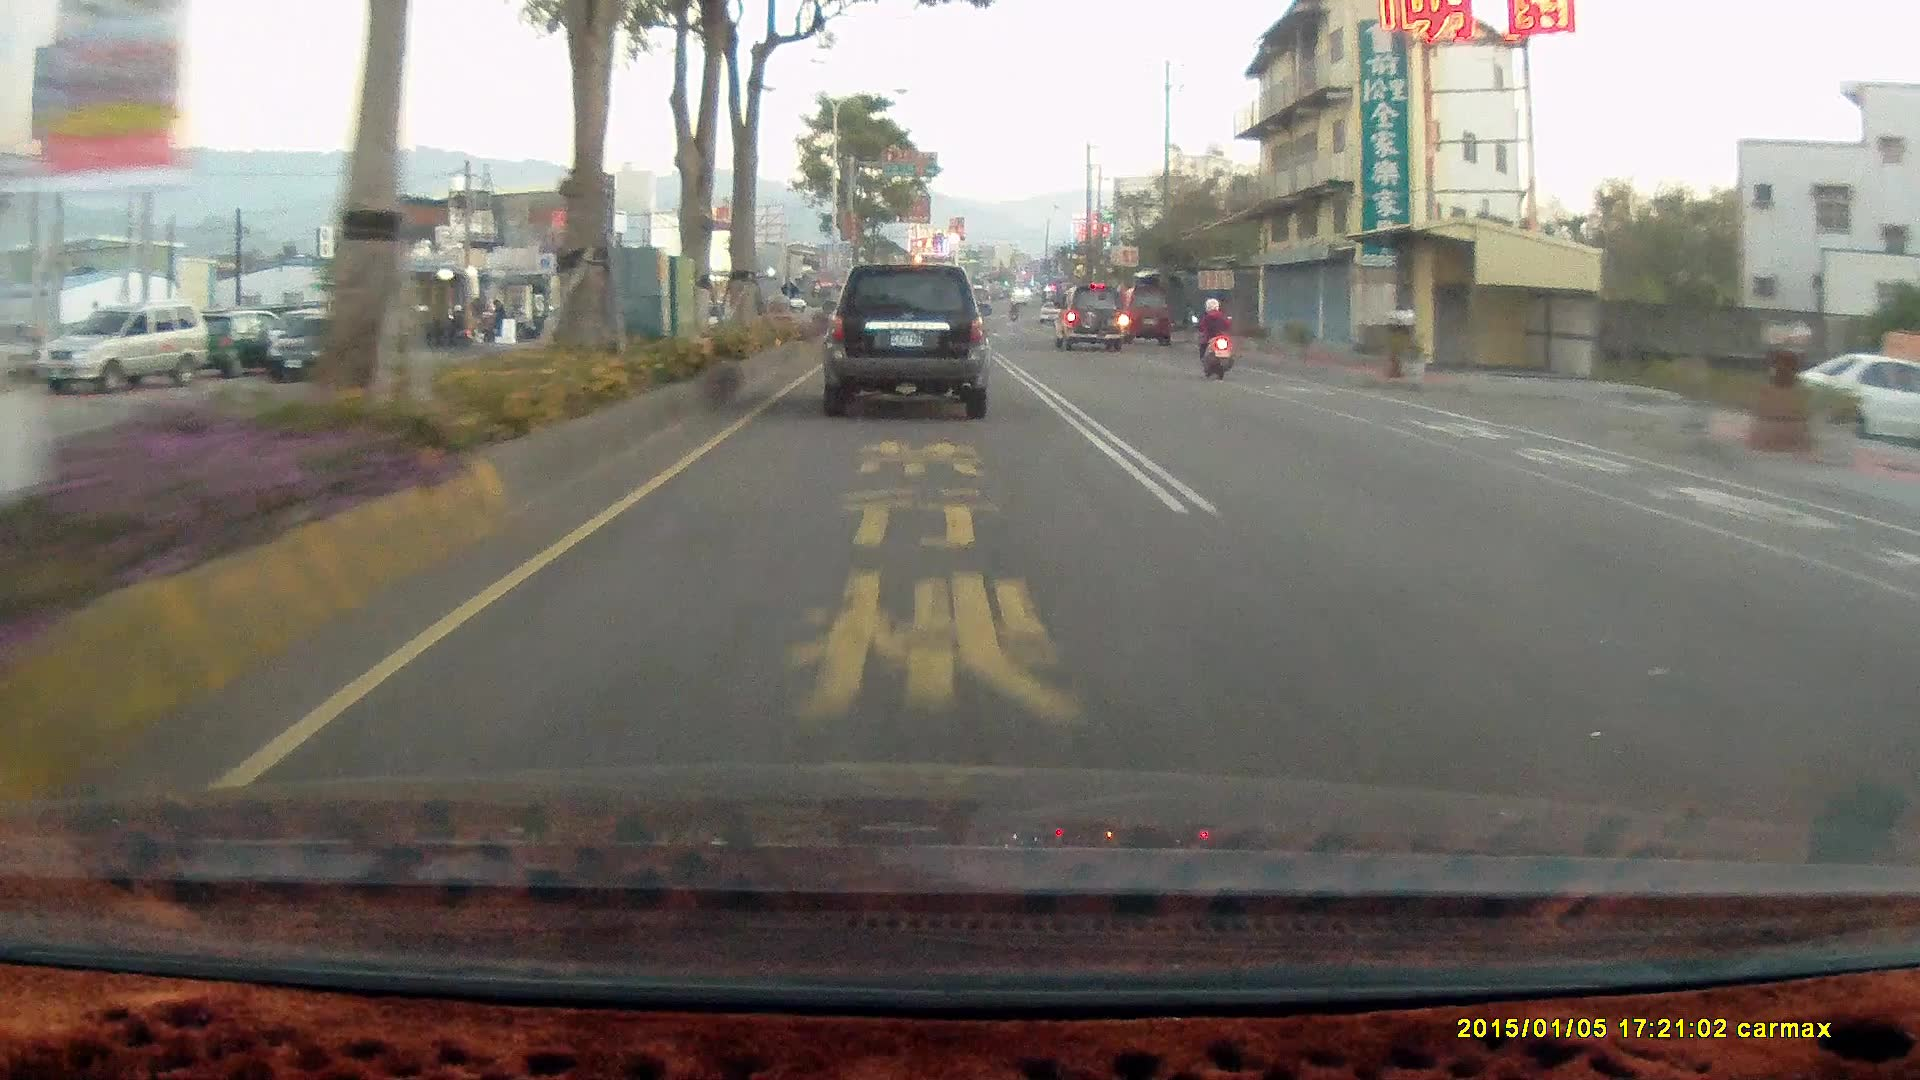rider: (1187, 292, 1243, 385), (1189, 291, 1235, 375), (429, 303, 478, 351)
vehicle: (821, 261, 991, 419), (828, 257, 997, 411), (41, 299, 210, 398), (34, 298, 206, 393), (1774, 353, 1920, 451), (255, 313, 385, 385), (262, 312, 391, 379), (1057, 282, 1135, 354), (1050, 282, 1126, 349), (1118, 286, 1171, 344)
